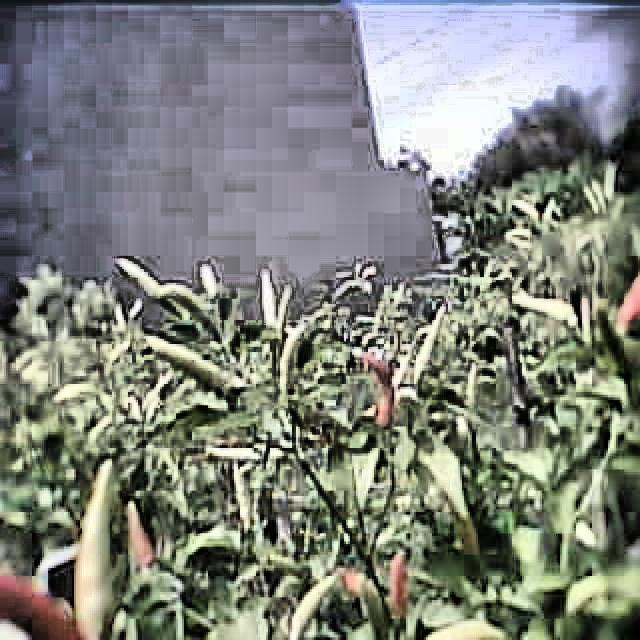Cabai: (357, 347, 408, 427)
